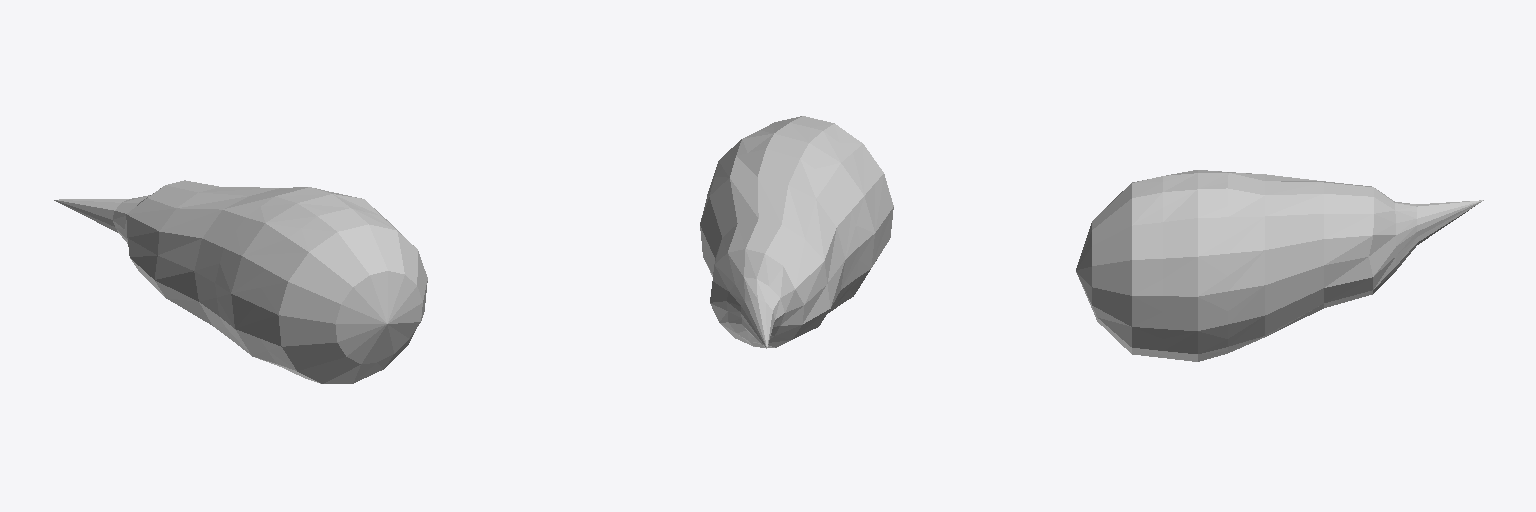
The model's file is under_parts.obj.
3 renders of one model, left to right at view 1: azimuth 30°, elevation 25°; view 2: azimuth 150°, elevation 25°; view 3: azimuth 270°, elevation 25°, orthographic.
Visible parts, largest first — view 1: OFF; view 2: OFF; view 3: OFF.
Part boxes in pixels (x1,y1,x2,y2): OFF: (54, 180, 427, 383); OFF: (700, 116, 893, 348); OFF: (1076, 170, 1483, 361).
Bounding box in the file's own units: 0.8591 × 0.6783 × 1.5.